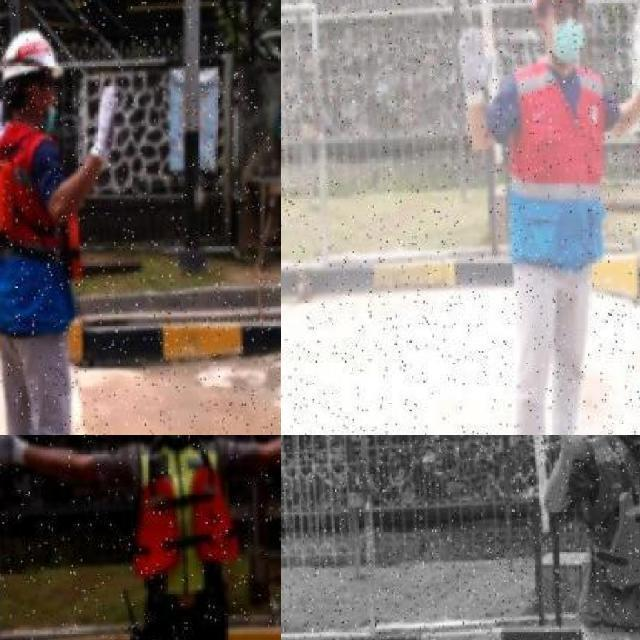apron: (451, 26, 497, 104), (87, 82, 121, 165), (0, 435, 32, 481), (0, 96, 10, 150)
